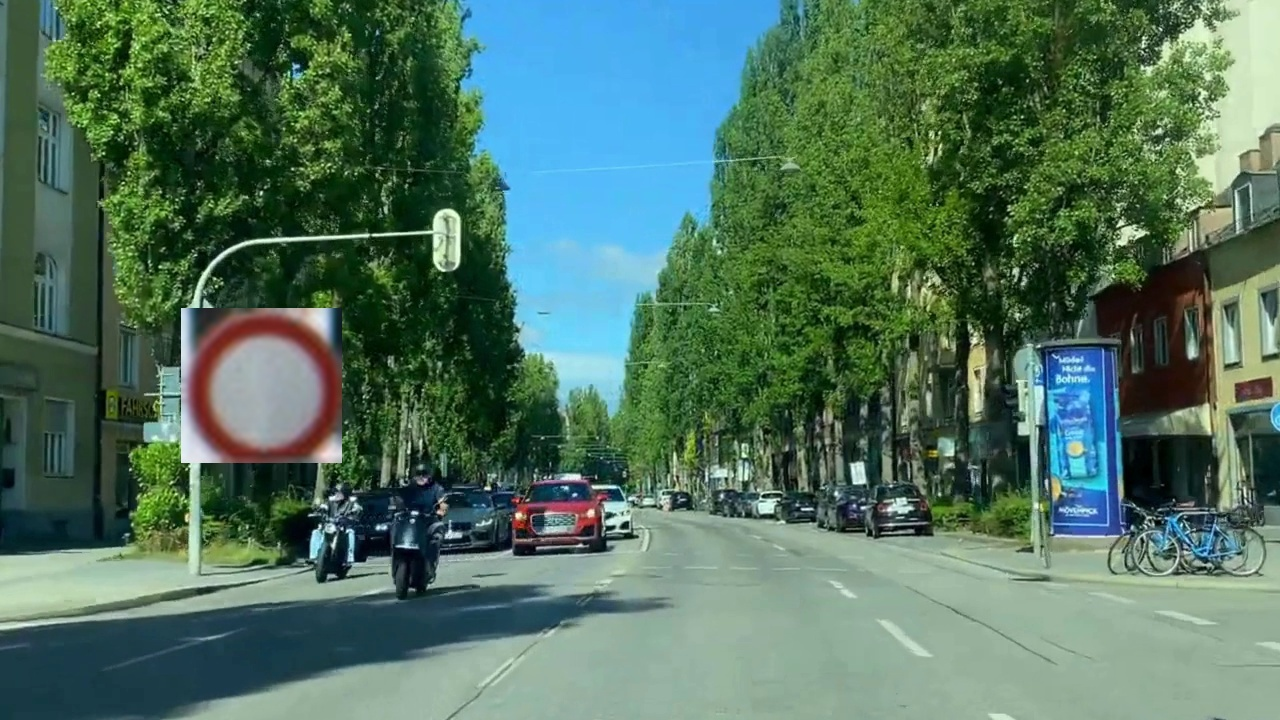No vehicles: (181, 308, 342, 463)
